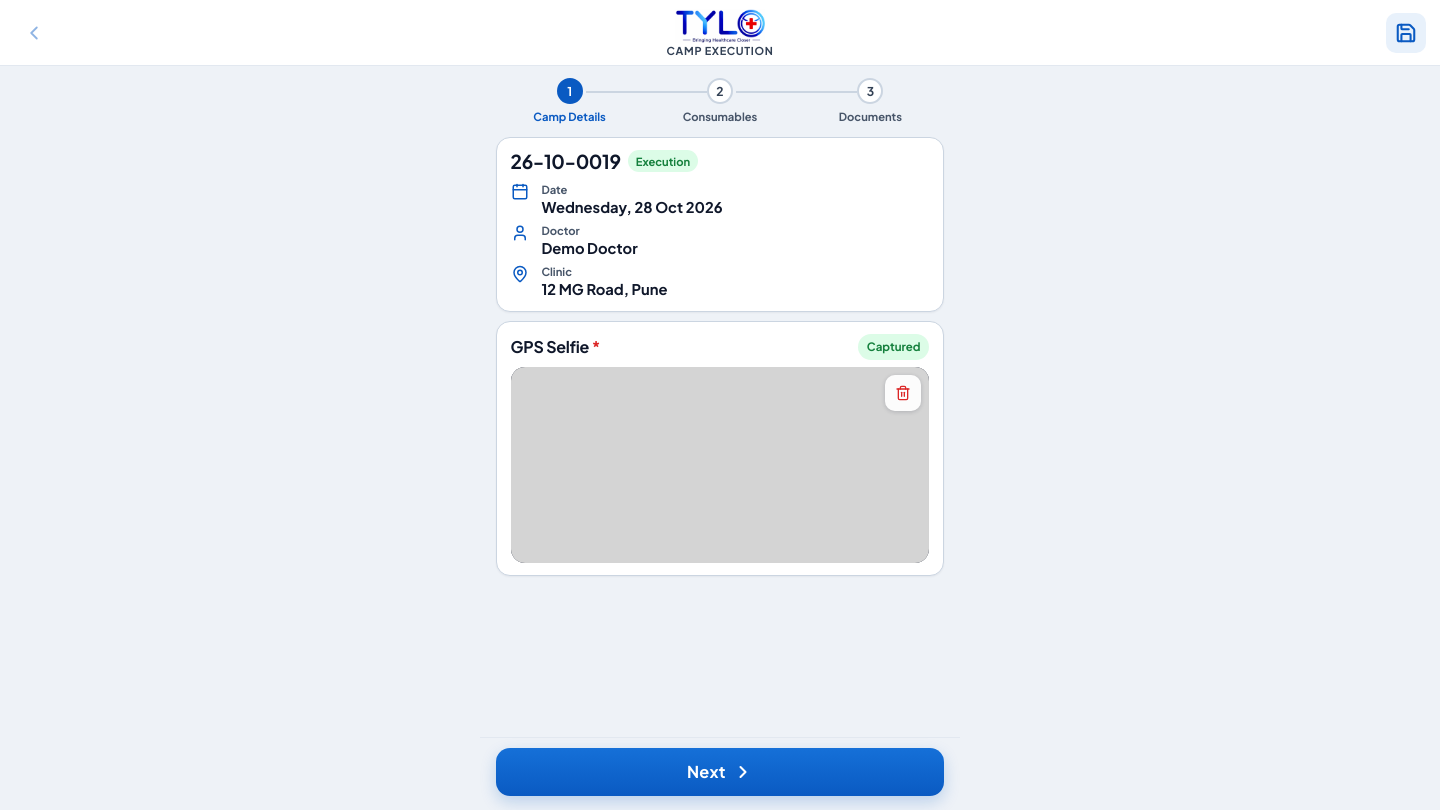
Test: CampExecutePage activity form layout › moves upload documents onto page 3
Expected: the text "26-10-0019" is shown, top-left (511, 150), bottom-right (621, 172)
Click the button "Next" at (720, 772), box top-left (496, 748), bottom-right (944, 796)
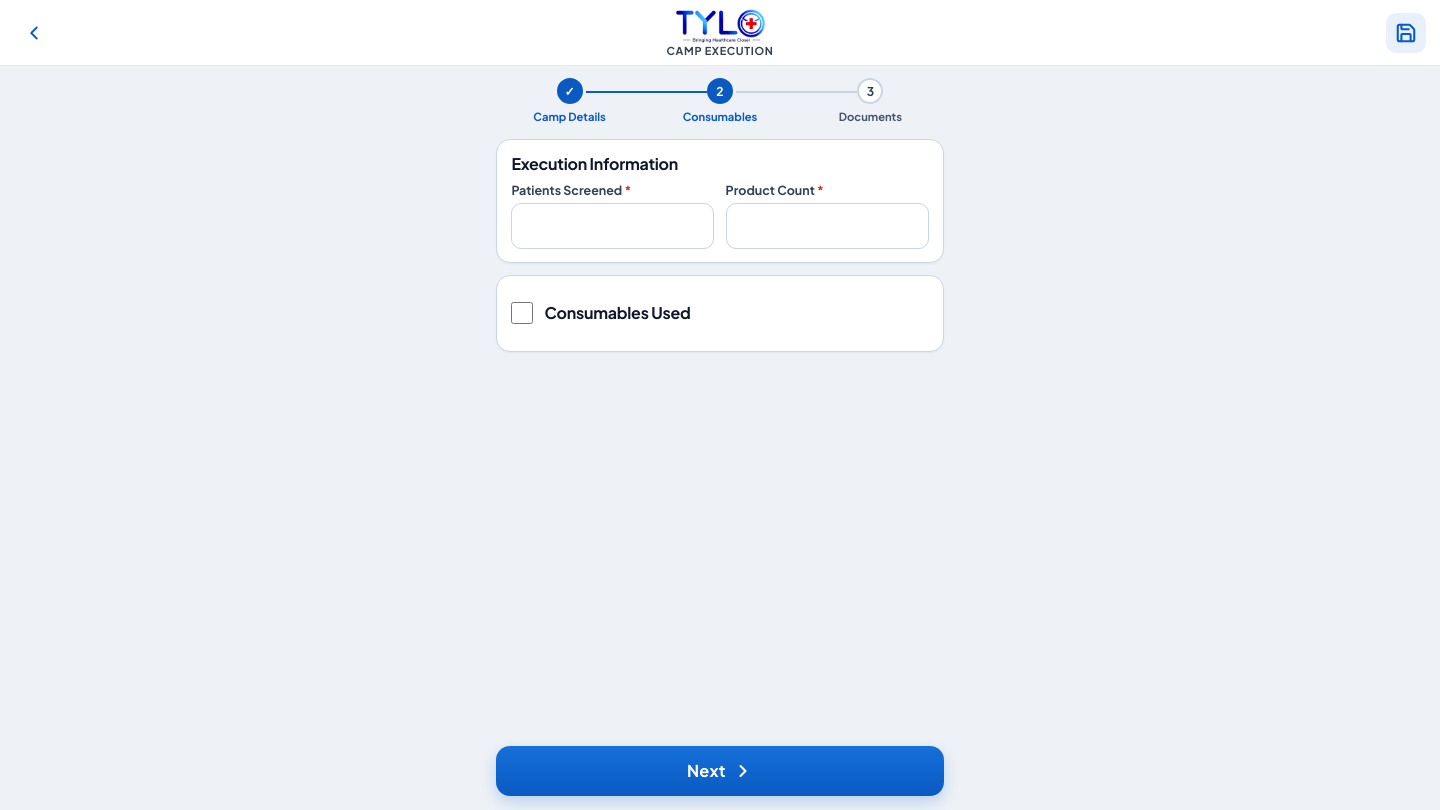
Now the checkbox labelled "Consumables Used" is shown, box top-left (511, 302), bottom-right (533, 324)
Type "0" into the number field labelled "Patients Screened *" at (613, 226), box top-left (511, 203), bottom-right (714, 249)
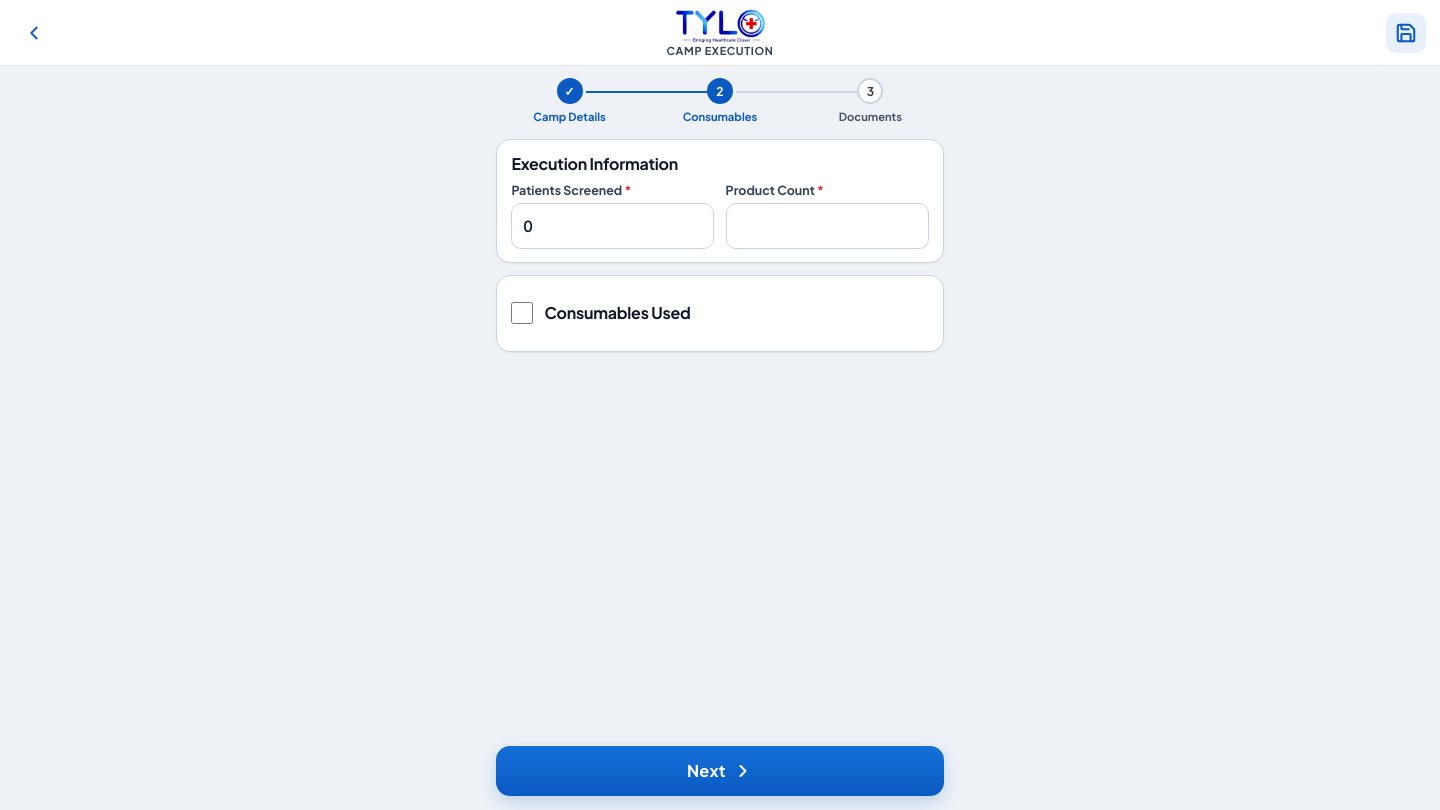
Type "0" into the number field labelled "Product Count *" at (827, 226), box top-left (726, 203), bottom-right (929, 249)
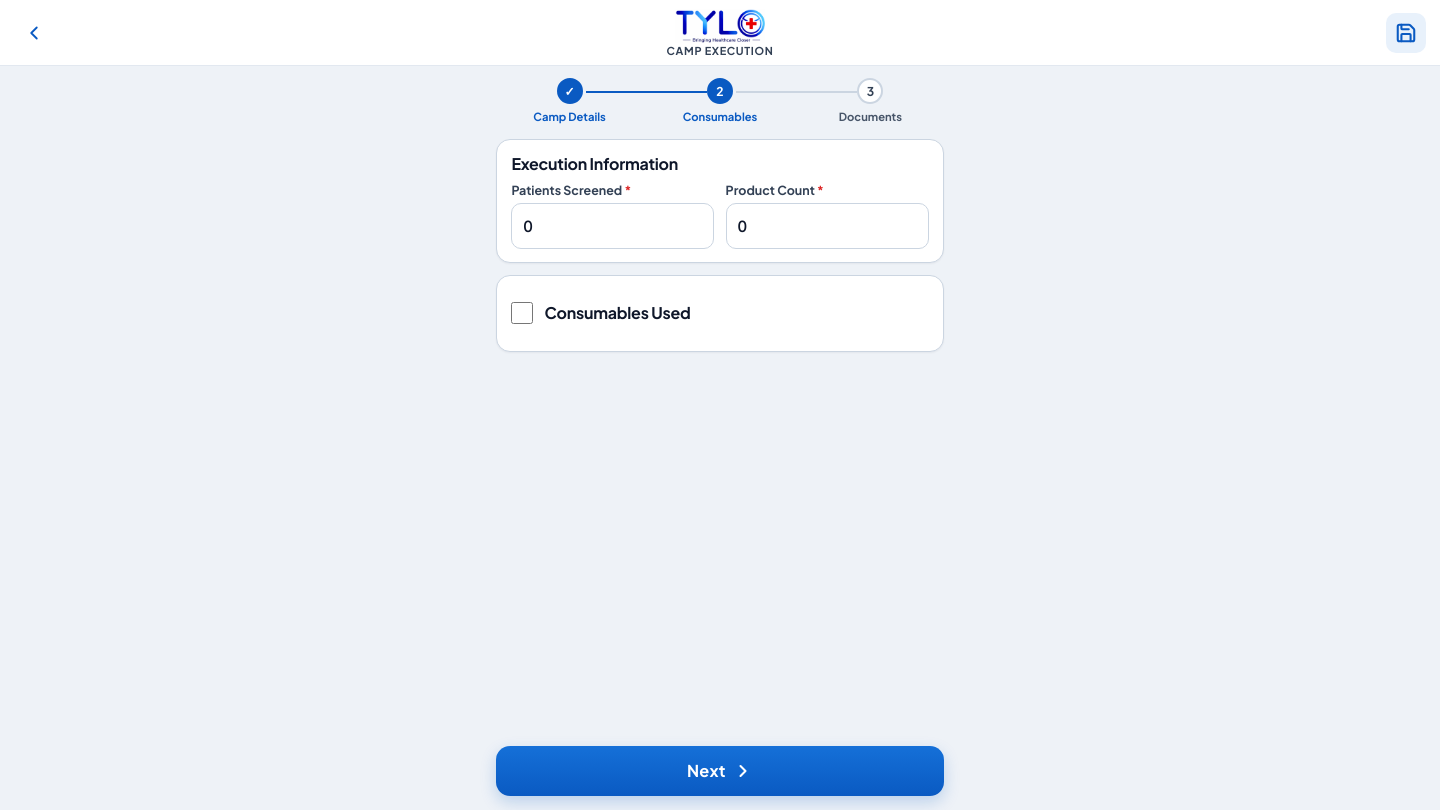
Click the button "Next" at (720, 771), box top-left (496, 746), bottom-right (944, 796)
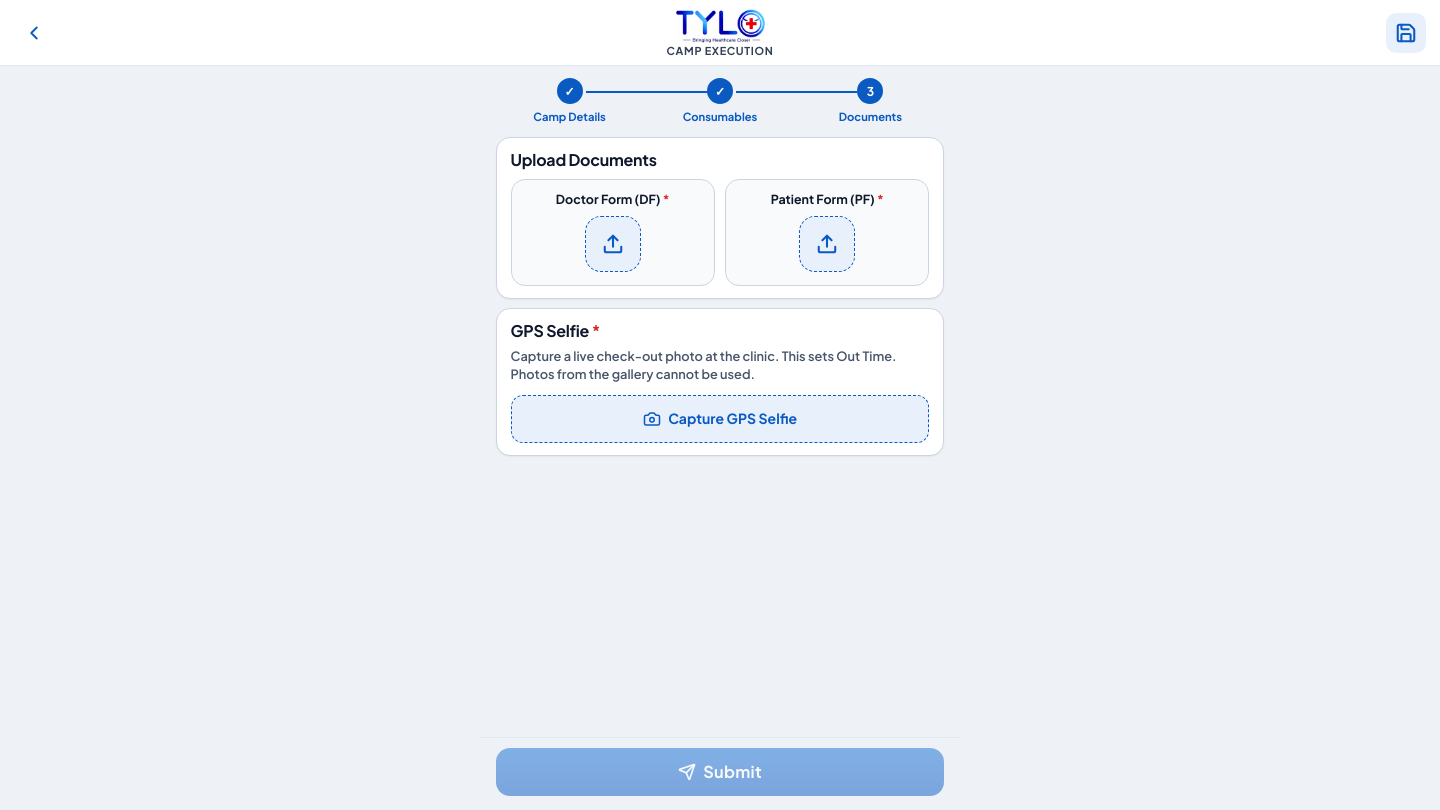
Now the heading "Upload Documents" is shown, box top-left (511, 149), bottom-right (657, 170)
Now the text "Doctor Form (DF)" is shown, box top-left (556, 191), bottom-right (660, 207)
Now the text "Patient Form (PF)" is shown, box top-left (771, 191), bottom-right (875, 207)
